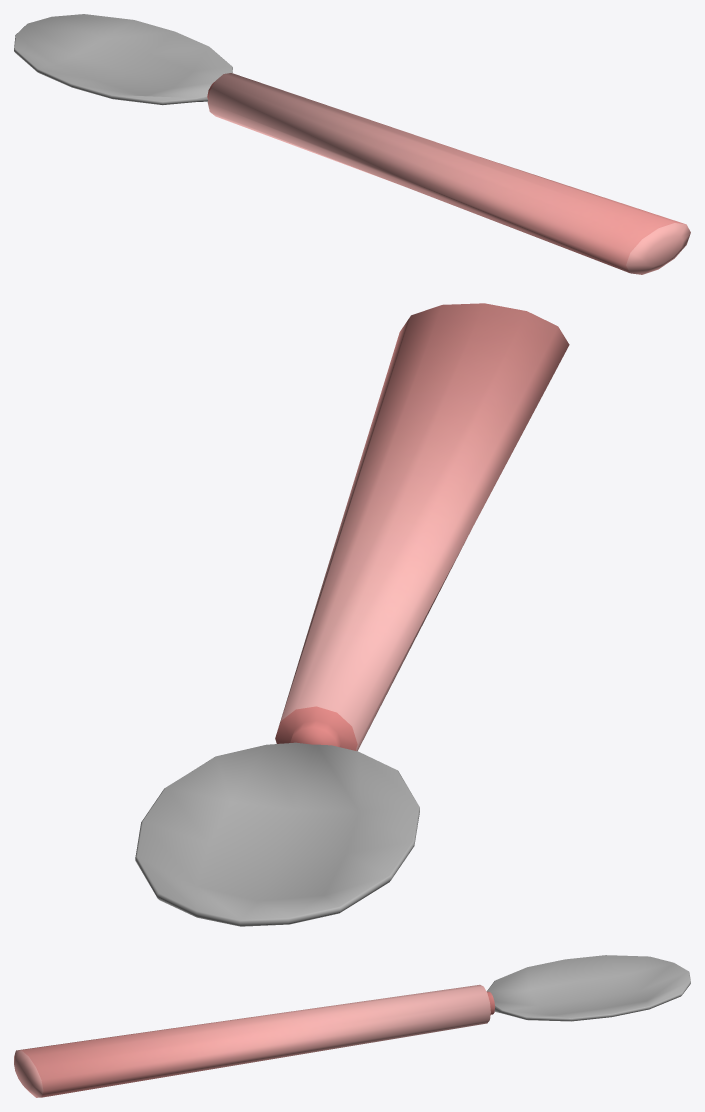
The model's file is Kitchen_spoon.FBX.
The picture shows the model from 3 angles, top to bottom: view 1: azimuth 30°, elevation 25°; view 2: azimuth 150°, elevation 25°; view 3: azimuth 270°, elevation 25°; orthographic projection. The views are drawn at different scales.
Parts seen in each view (by area): view 1: Kitchen_spoon; view 2: Kitchen_spoon; view 3: Kitchen_spoon.
Boxes of the visible parts, x1=… form: Kitchen_spoon: x1=14, y1=14, x2=690, y2=274; Kitchen_spoon: x1=135, y1=303, x2=569, y2=926; Kitchen_spoon: x1=14, y1=955, x2=690, y2=1097.
Bounding box in the file's own units: 3.32 × 0.4026 × 7.03.
